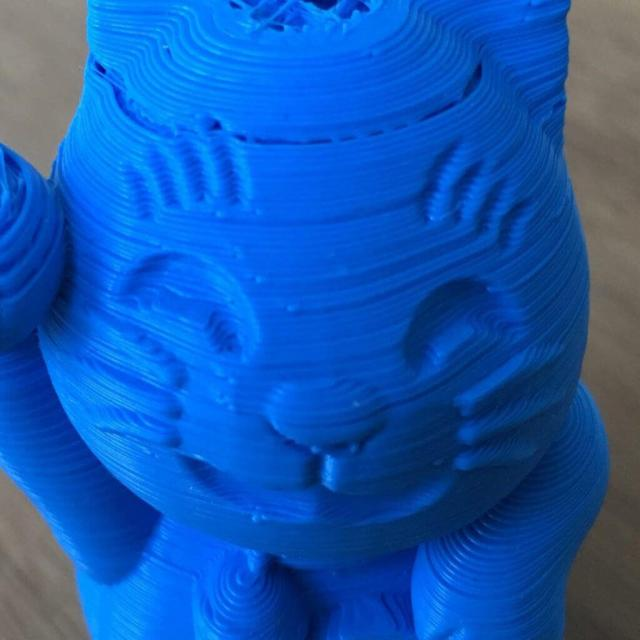Warping: (74, 48, 224, 146), (409, 49, 504, 123)
